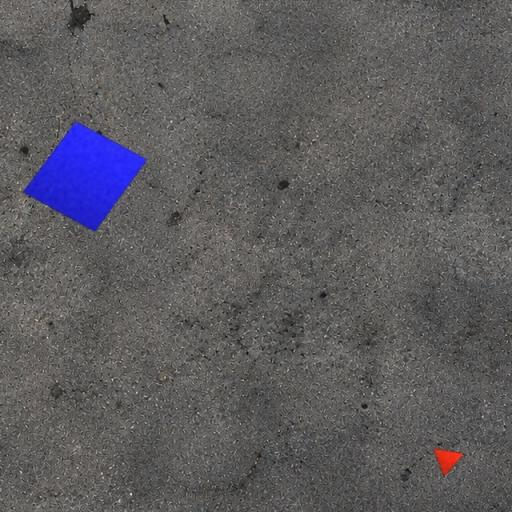BLUE_SQUARE: (22, 121, 148, 233)
